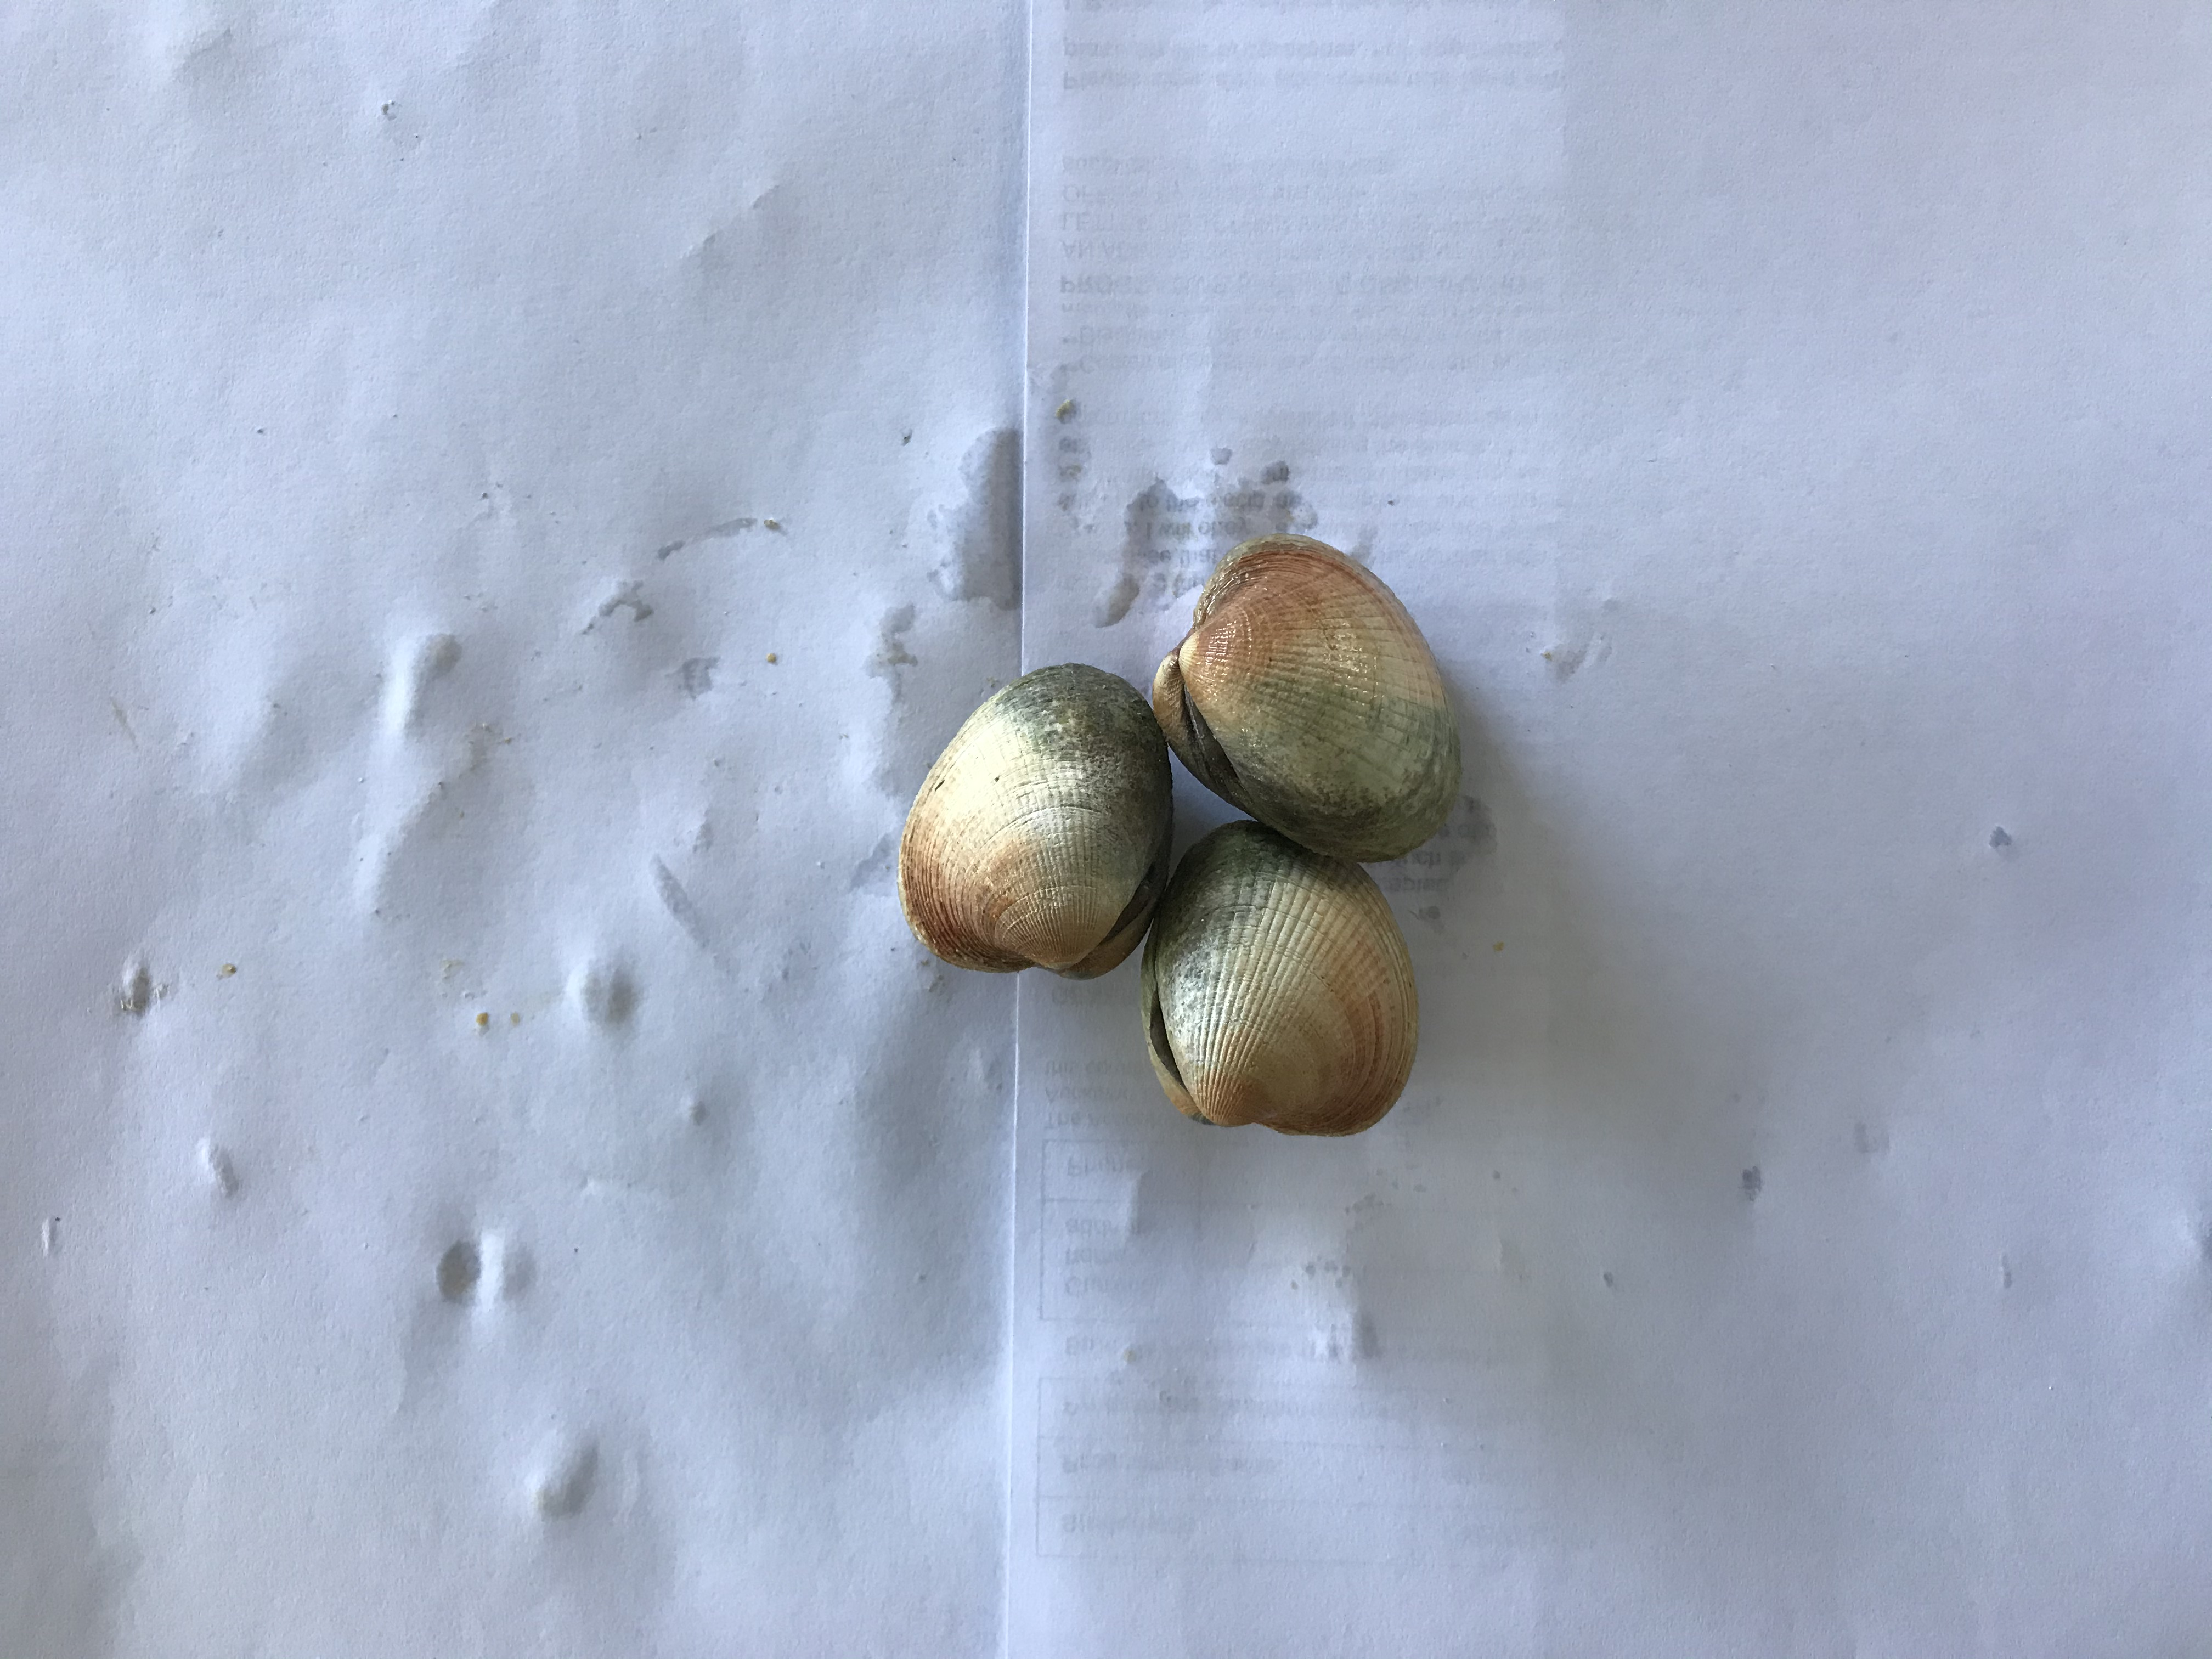cockle: (1148, 526, 1468, 871), (888, 653, 1181, 983), (1137, 816, 1421, 1145)
